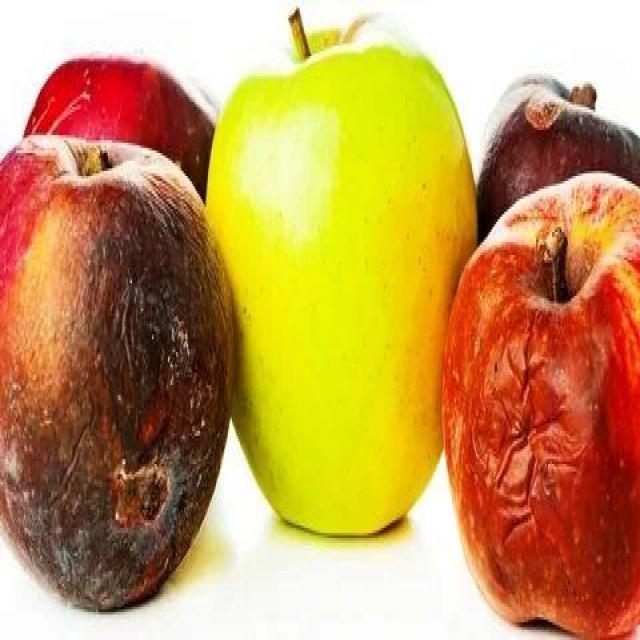fresh_apple: (232, 22, 444, 554)
rotten_apple: (2, 140, 234, 610), (444, 173, 635, 638)
